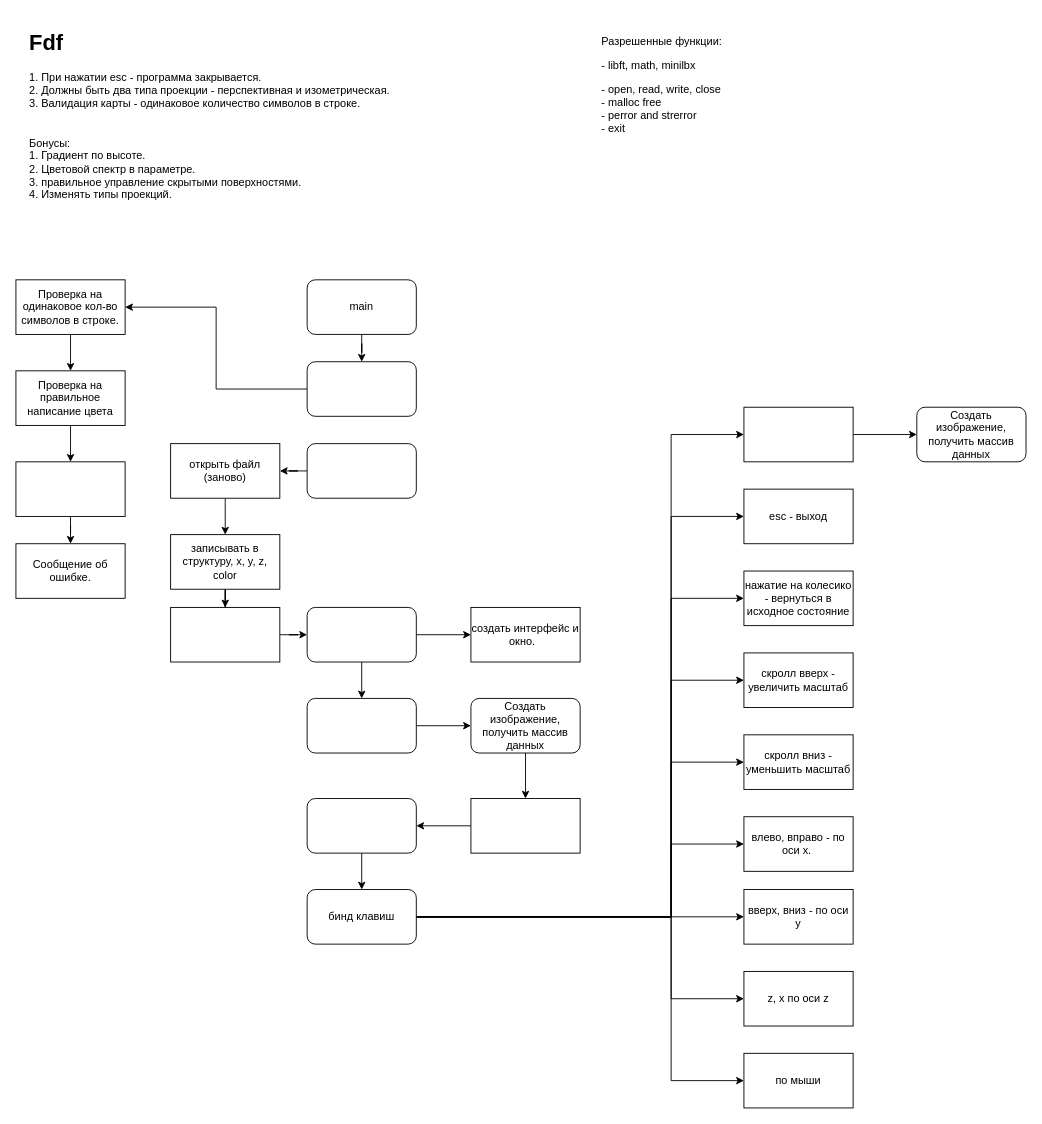
This 1042x1124 diagram has some shape labels left out. The shapes that lost their labels are listed below. From the top down, each one's box as (x1, y1, x2, y2) in pixels, then its label:
(306, 361, 416, 416): Валидатор
(743, 406, 853, 462): f1 - вызов инструкции. Повторное нажатие - выключить
(15, 461, 125, 516): Проверка на целые числа
(306, 443, 416, 498): Запись координат в массив структур
(170, 607, 280, 662): закрыть файл, возвращая указатель на массив
(306, 607, 416, 662): запуск окна
(306, 698, 416, 753): нарисовать линии
(306, 798, 416, 853): вывод на экран
(470, 798, 580, 853): градиентное соединение точек x c x+1 и y+1
